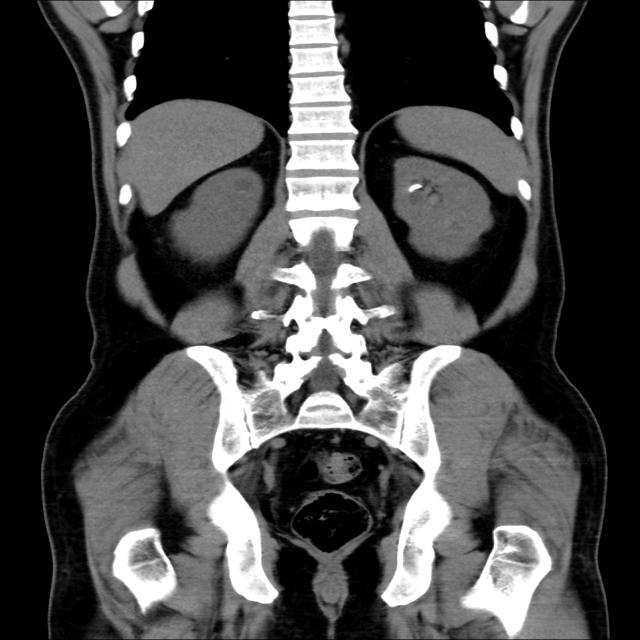kidneystone: (408, 182, 423, 192)
